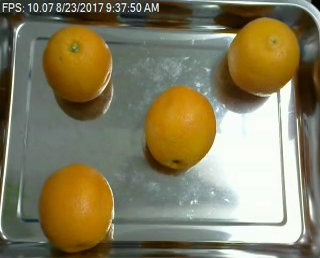Orange: (37, 163, 116, 254), (144, 85, 217, 170), (226, 17, 302, 97), (43, 23, 113, 103)
